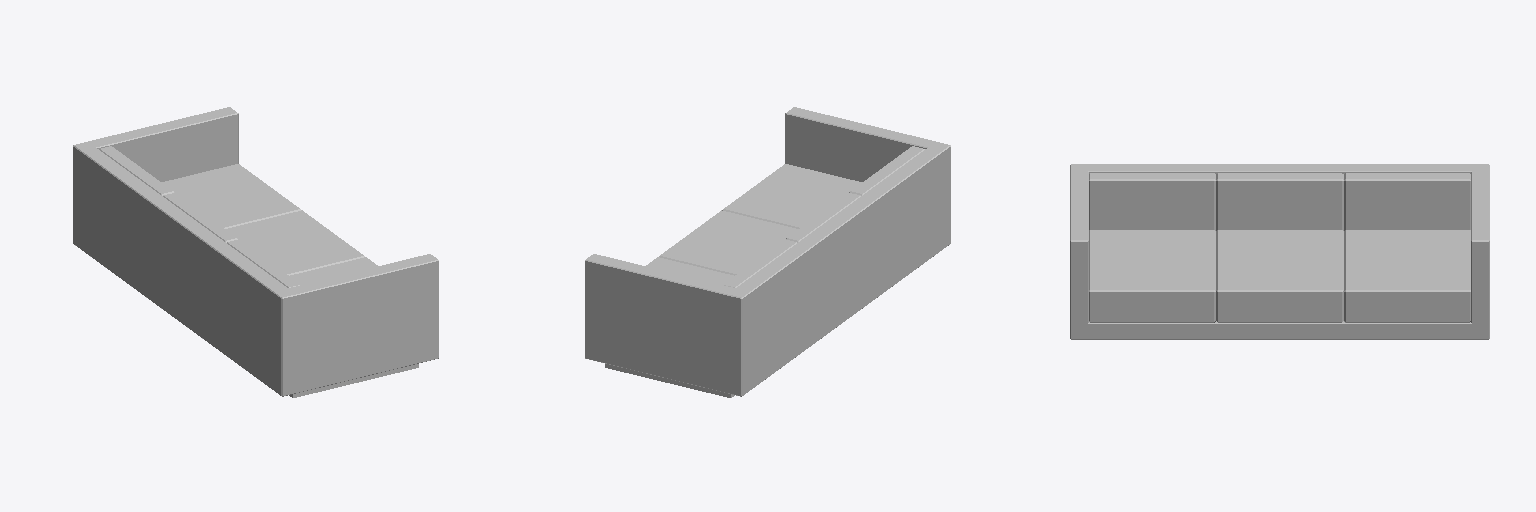
The model's file is sofa-triple.obj.
The picture shows the model from 3 angles: view 1: azimuth 30°, elevation 25°; view 2: azimuth 150°, elevation 25°; view 3: azimuth 270°, elevation 25°; orthographic projection.
Parts seen in each view (by area): view 1: sofa_Cube; view 2: sofa_Cube; view 3: sofa_Cube.
Boxes of the visible parts, x1,y1,x2,y2 form: sofa_Cube: [73, 107, 438, 397]; sofa_Cube: [585, 107, 950, 397]; sofa_Cube: [1070, 164, 1489, 339].
Bounding box in the file's own units: 1 × 0.65 × 2.3.